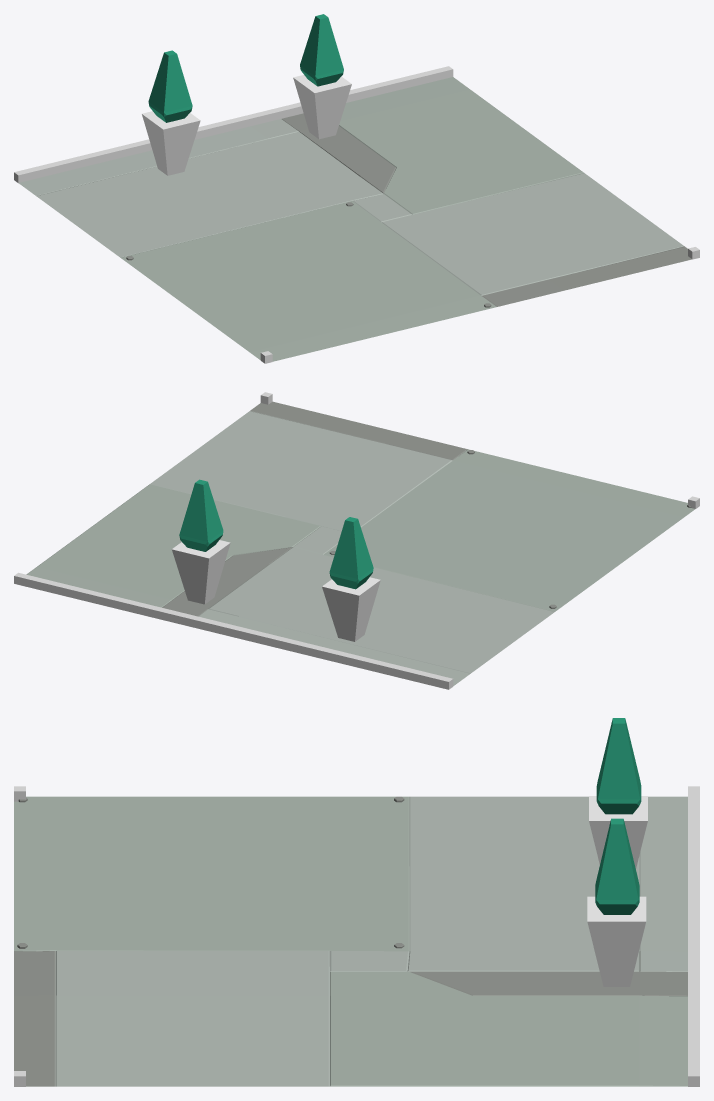
3 renders of one model, top to bottom at view 1: azimuth 30°, elevation 25°; view 2: azimuth 150°, elevation 25°; view 3: azimuth 270°, elevation 25°, orthographic. The views are drawn at different scales.
Parts seen in each view (by area): view 1: Scifi_Panel_04_Plaza014_group4.041_Scifi_Panel_04_Plaza014_g, base_singlePot01.029_base_singlePot01.033, base_singlePot01.028_base_singlePot01.032, Cube.1140_Cube.1269; view 2: Scifi_Panel_04_Plaza014_group4.041_Scifi_Panel_04_Plaza014_g, Cube.1140_Cube.1269, base_singlePot01.029_base_singlePot01.033, base_singlePot01.028_base_singlePot01.032; view 3: Scifi_Panel_04_Plaza014_group4.041_Scifi_Panel_04_Plaza014_g, base_singlePot01.028_base_singlePot01.032, base_singlePot01.029_base_singlePot01.033, Cube.1140_Cube.1269.
Part boxes in pixels (box(x1,y1,x2,y2)): Scifi_Panel_04_Plaza014_group4.041_Scifi_Panel_04_Plaza014_g: box(18, 77, 691, 361); base_singlePot01.029_base_singlePot01.033: box(142, 50, 200, 175); base_singlePot01.028_base_singlePot01.032: box(293, 14, 351, 139); Cube.1140_Cube.1269: box(14, 66, 453, 182); Scifi_Panel_04_Plaza014_group4.041_Scifi_Panel_04_Plaza014_g: box(26, 401, 695, 685); Cube.1140_Cube.1269: box(14, 572, 453, 689); base_singlePot01.029_base_singlePot01.033: box(322, 517, 380, 641); base_singlePot01.028_base_singlePot01.032: box(172, 479, 230, 604); Scifi_Panel_04_Plaza014_group4.041_Scifi_Panel_04_Plaza014_g: box(14, 796, 687, 1086); base_singlePot01.028_base_singlePot01.032: box(587, 818, 646, 986); base_singlePot01.029_base_singlePot01.033: box(589, 718, 647, 868); Cube.1140_Cube.1269: box(688, 786, 699, 1086).
Bounding box in the file's own units: 10 × 2.59 × 10.
